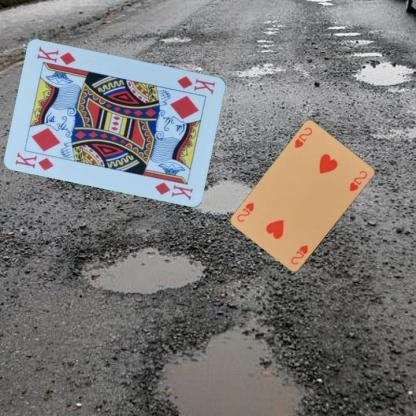2h: (292, 124, 314, 150), (288, 243, 310, 266)
Kd: (13, 149, 55, 172), (174, 74, 216, 96)
